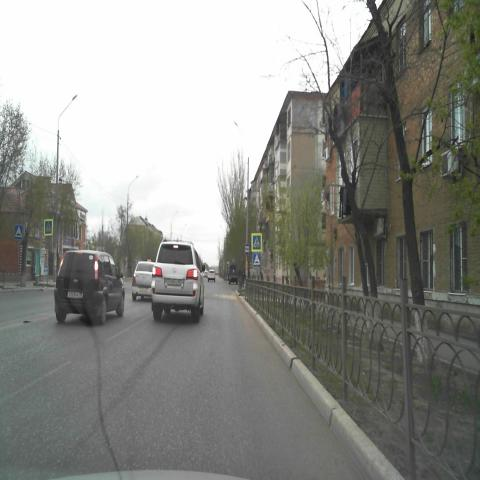5_20: (15, 224, 22, 239)
